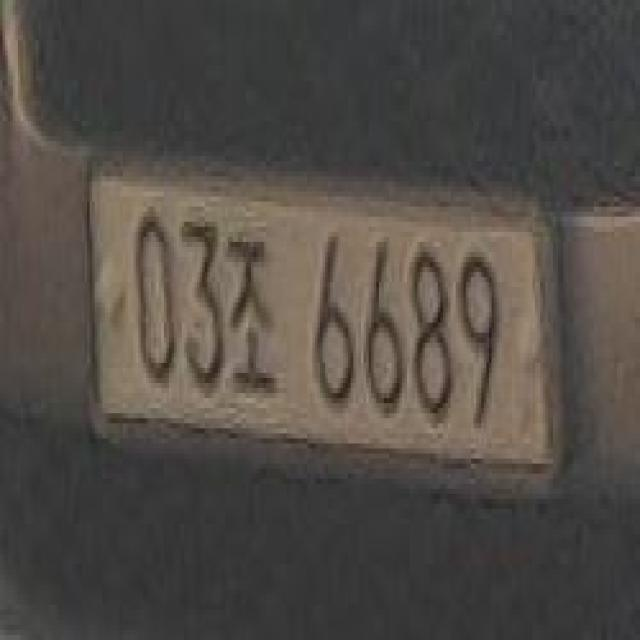illegal_plate: (90, 152, 562, 505)
